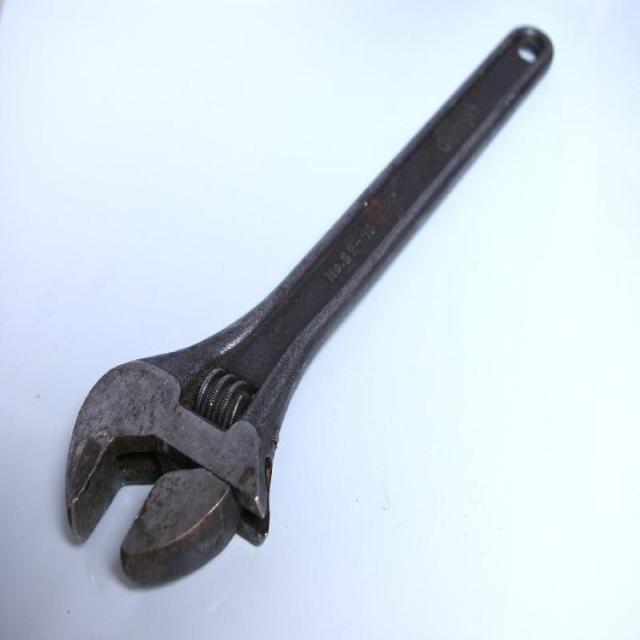wrench: (26, 205, 574, 593)
